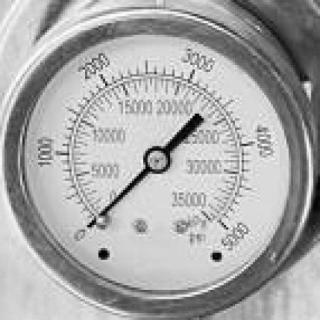gauge: (0, 0, 320, 320), (76, 204, 111, 246), (203, 206, 238, 244), (143, 145, 171, 175), (82, 219, 97, 234)
